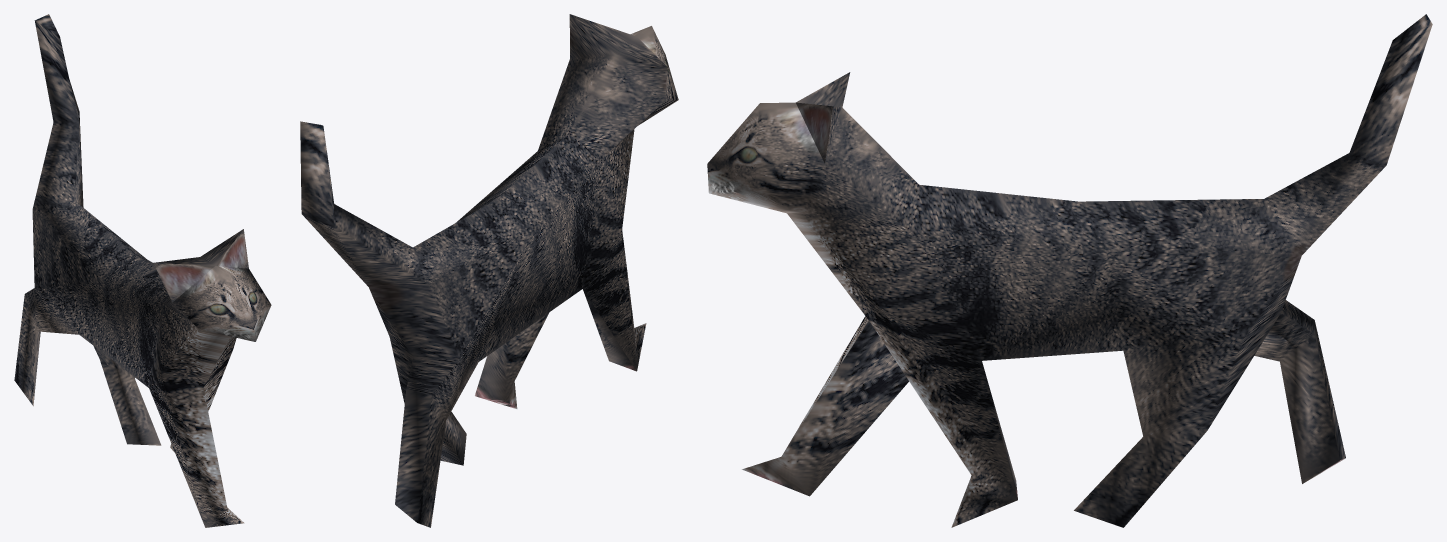
File: cat.glb
3 views of the same model, side by side, from view 1: azimuth 30°, elevation 25°; view 2: azimuth 150°, elevation 25°; view 3: azimuth 270°, elevation 25° (orthographic). The views are drawn at different scales.
Visible parts, largest first — view 1: Cube.001; view 2: Cube.001; view 3: Cube.001.
Boxes of the visible parts, bbox=[...] form: Cube.001: bbox=[14, 14, 271, 527]; Cube.001: bbox=[300, 14, 678, 527]; Cube.001: bbox=[707, 14, 1432, 527].
Bounding box in the file's own units: 0.7205 × 2.19 × 2.82.
1 material, 1 textured.
